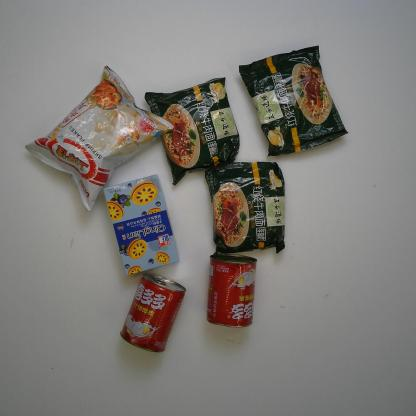Canned Food: (120, 273, 186, 353), (206, 254, 257, 328)
Dessert: (103, 174, 180, 276)
Instant Noodles: (238, 45, 350, 158), (144, 77, 240, 186), (204, 161, 286, 254)
Puffed Food: (24, 65, 174, 212)
